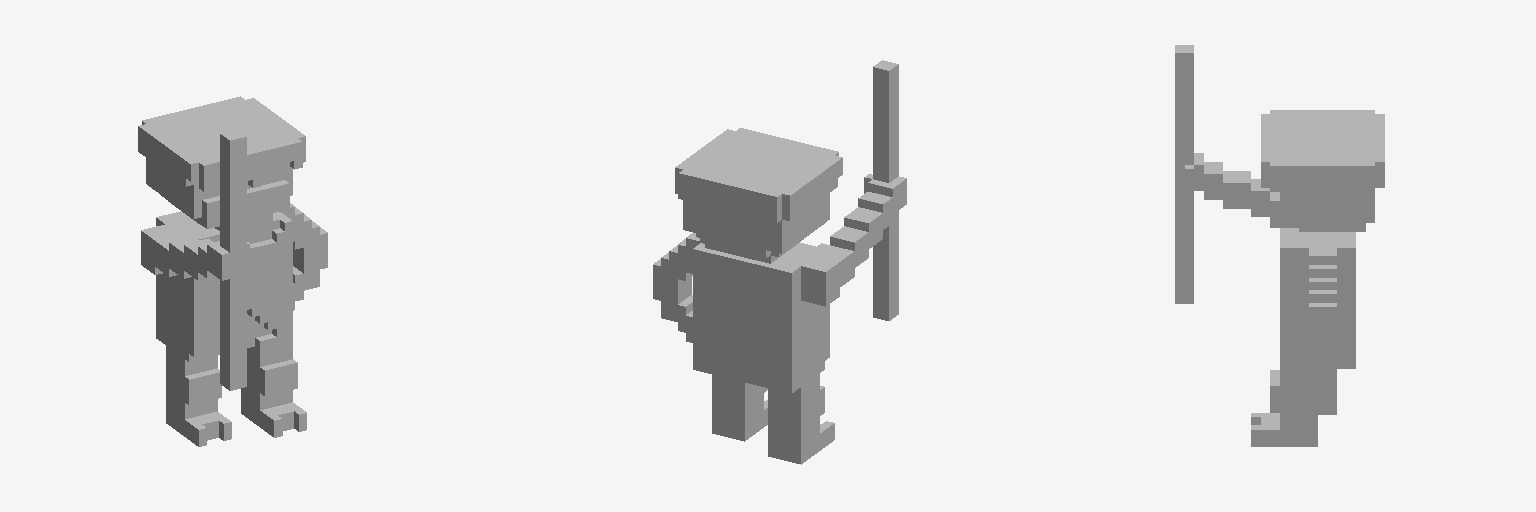
Rendered from Artour.obj.
The picture shows the model from 3 angles: view 1: azimuth 30°, elevation 25°; view 2: azimuth 150°, elevation 25°; view 3: azimuth 270°, elevation 25°; orthographic projection.
Visible parts, largest first — view 1: object 1; view 2: object 1; view 3: object 1.
Boxes of the visible parts, <box> form: object 1: <box>138,96,327,446</box>; object 1: <box>653,60,906,464</box>; object 1: <box>1175,45,1384,446</box>.
Bounding box in the file's own units: 2.1 × 4 × 2.2.